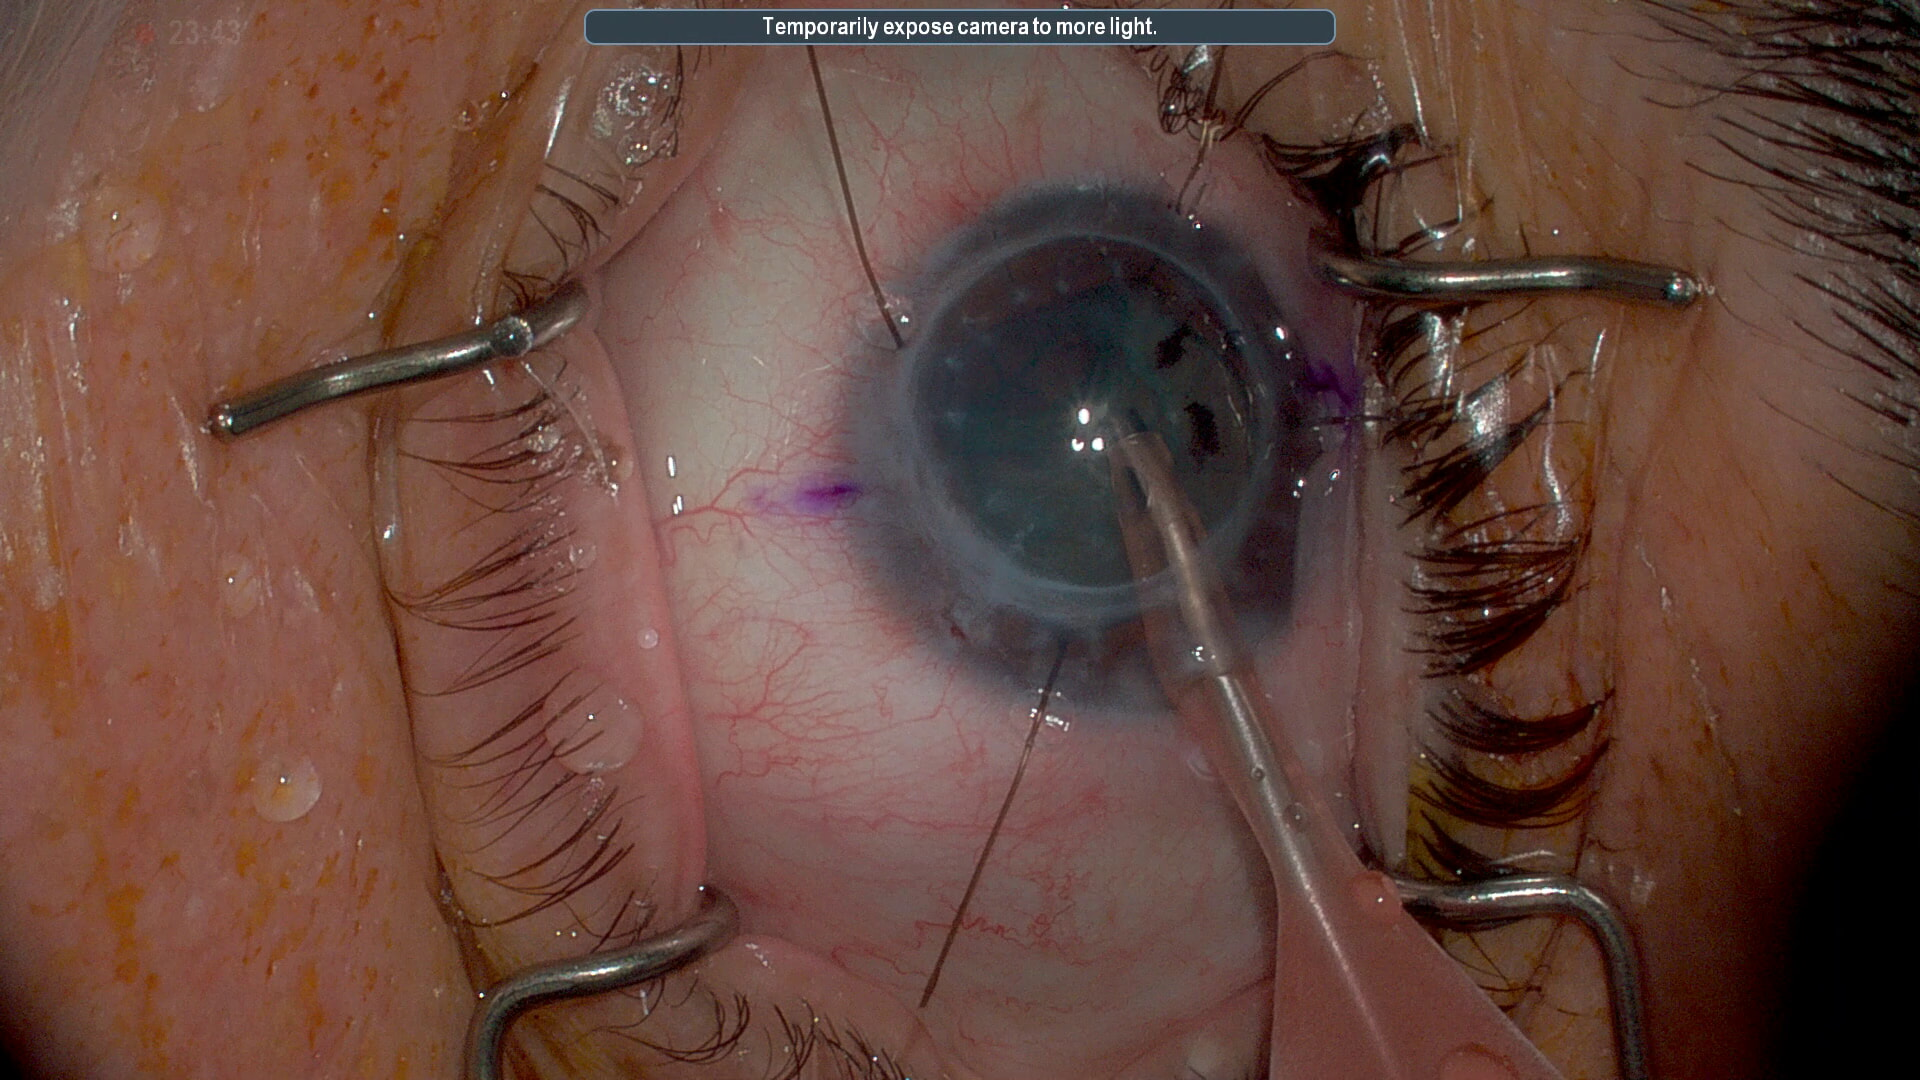iris: (872, 202, 1308, 661)
pupil: (915, 236, 1264, 590)
